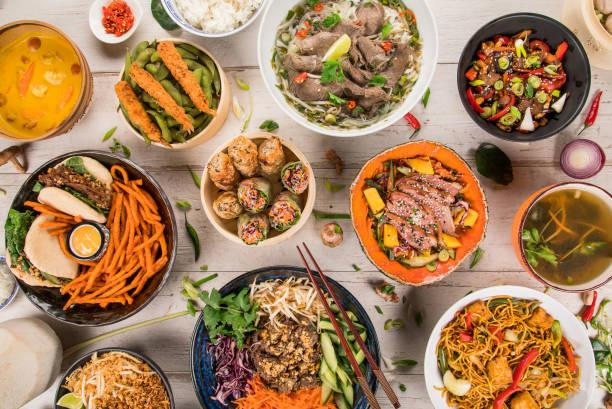Braised Crucian Carp: (3, 150, 176, 323), (189, 265, 375, 407), (257, 2, 430, 140), (424, 284, 595, 407), (346, 140, 482, 285), (457, 12, 591, 142), (200, 132, 312, 248), (114, 37, 227, 150), (1, 18, 93, 143), (512, 181, 610, 291), (0, 257, 19, 313)
